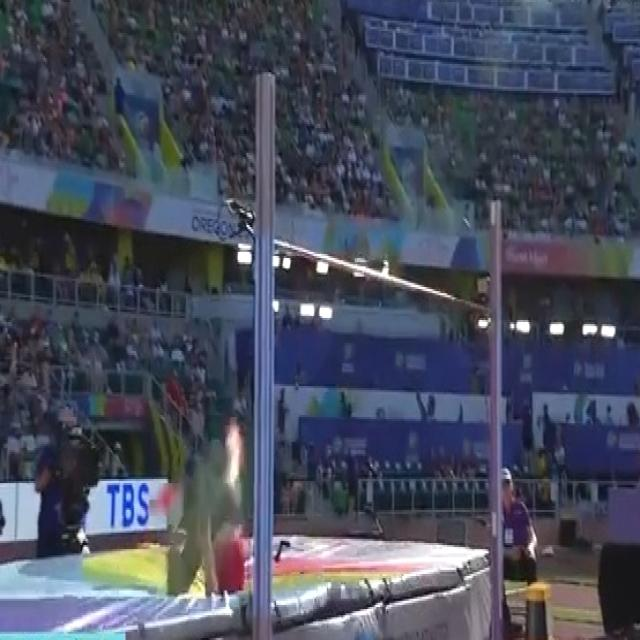land: (148, 416, 249, 601)
